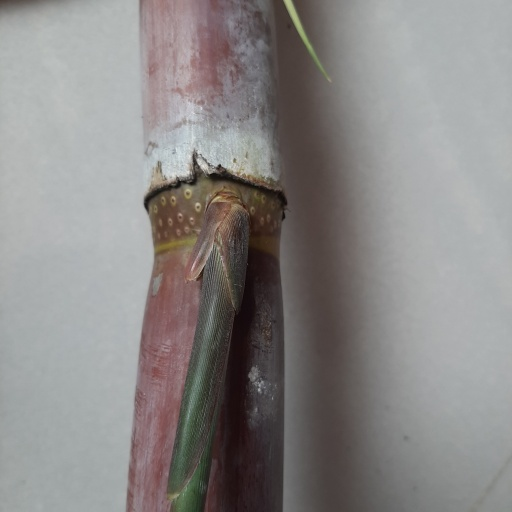Sprouted_Bud: (201, 192, 246, 304)
